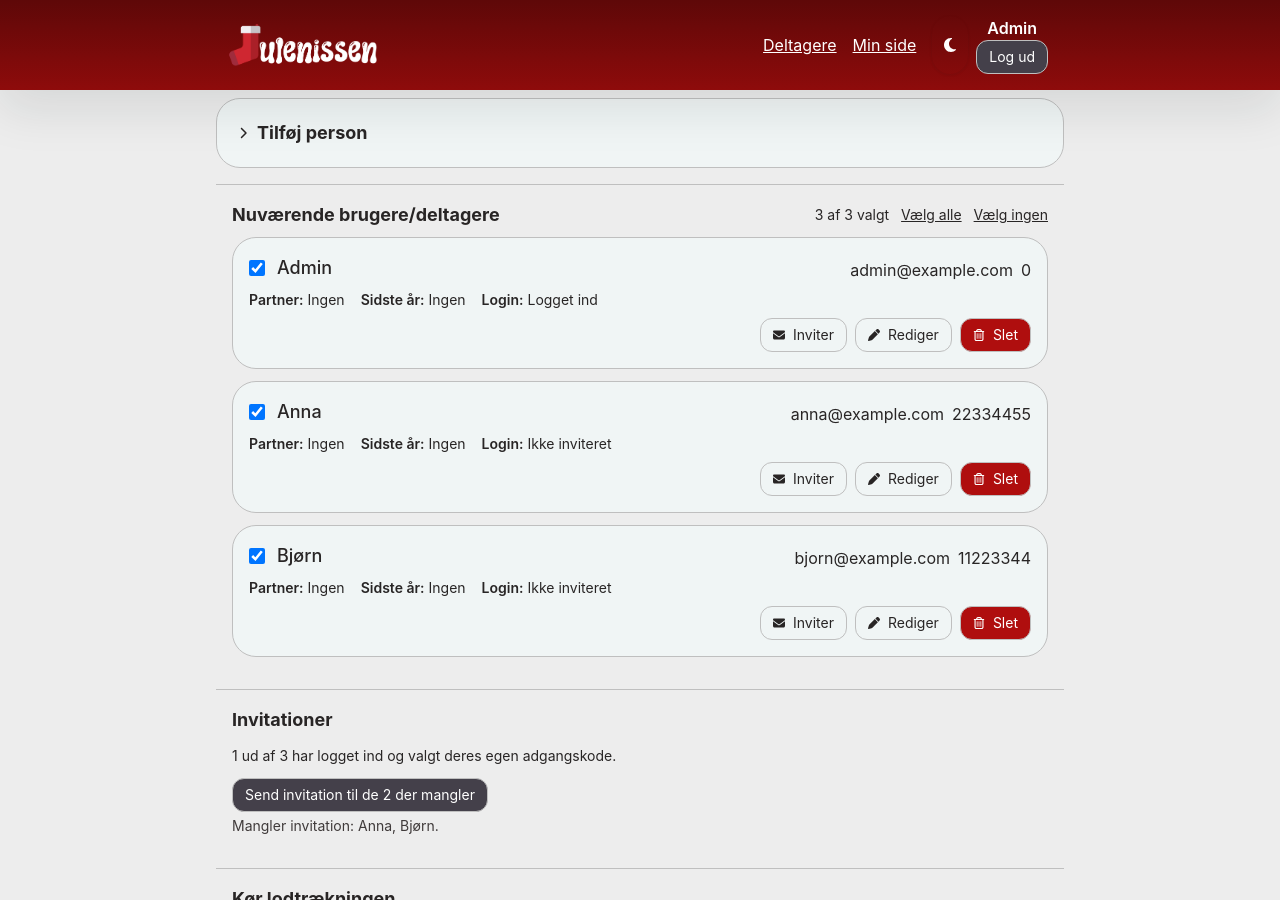
inviting people from the admin page › invites everyone still waiting, before any draw has been made
// The admin is already in, so isn't counted as waiting.
Click the button "Send invitation til de 2 der mangler": (360,795) [232, 778, 488, 812]
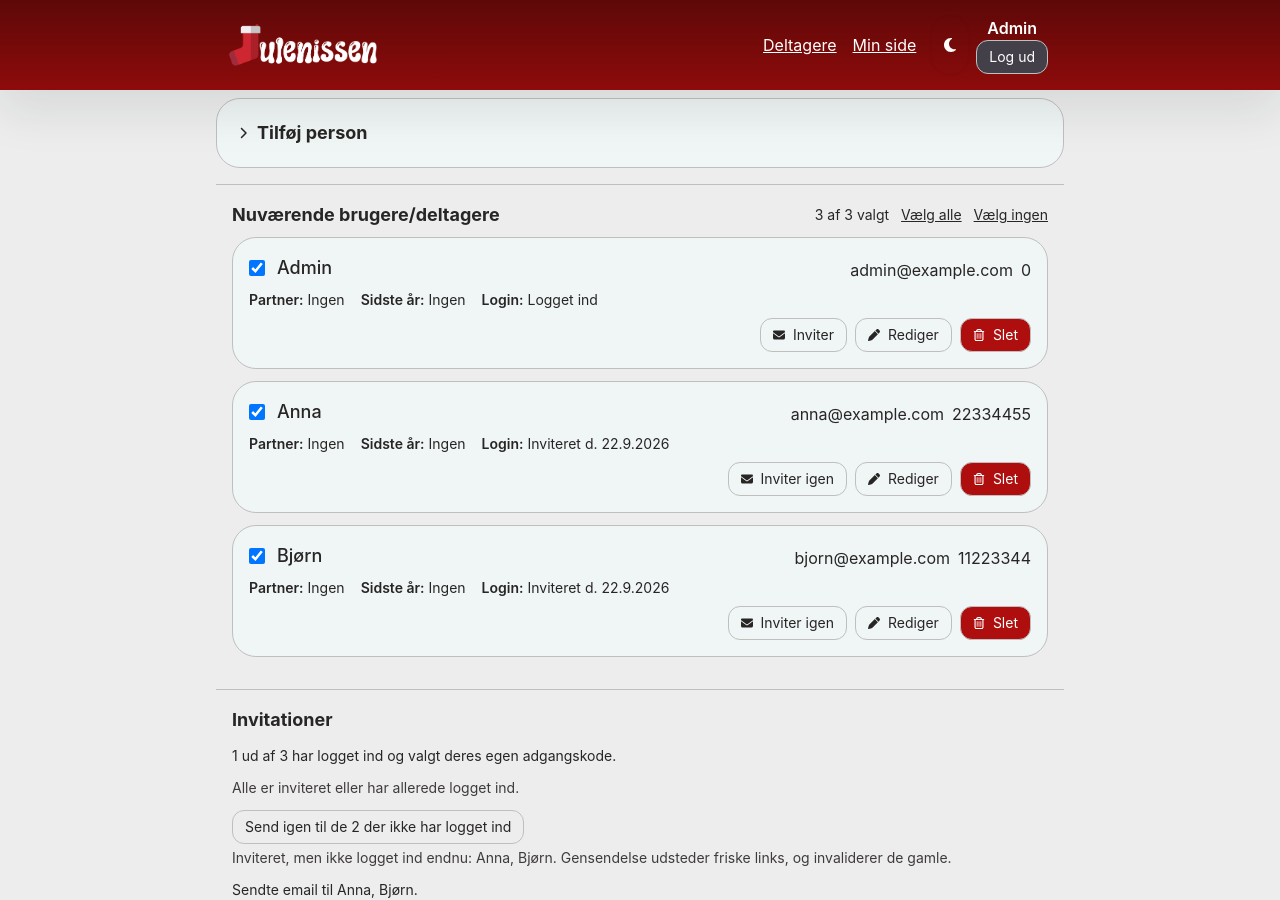
Now the text "Sendte email til Anna, Bjørn." is shown, box [232, 881, 418, 898]
Now the text "Alle er inviteret eller har allerede logget ind." is shown, box [232, 779, 519, 796]
